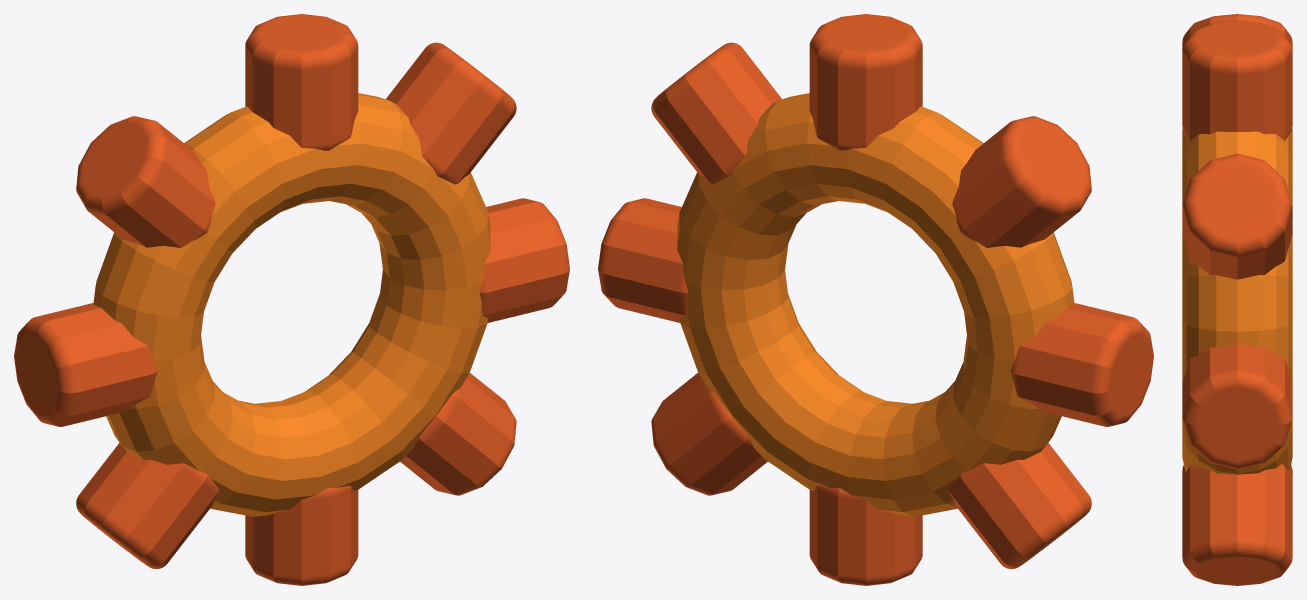
Rendered from tinker.obj.
The picture shows the model from 3 angles, left to right: view 1: azimuth 30°, elevation 25°; view 2: azimuth 150°, elevation 25°; view 3: azimuth 270°, elevation 25°; orthographic projection. The views are drawn at different scales.
Parts seen in each view (by area): view 1: group_0_14900002, group_0_16089887; view 2: group_0_14900002, group_0_16089887; view 3: group_0_14900002, group_0_16089887.
Boxes of the visible parts, x1=… form: group_0_14900002: x1=14, y1=14, x2=569, y2=585; group_0_16089887: x1=93, y1=93, x2=490, y2=516; group_0_14900002: x1=598, y1=14, x2=1153, y2=585; group_0_16089887: x1=677, y1=93, x2=1074, y2=516; group_0_14900002: x1=1182, y1=14, x2=1292, y2=585; group_0_16089887: x1=1182, y1=129, x2=1292, y2=474.
Bounding box in the file's own units: 26 × 26 × 5.
